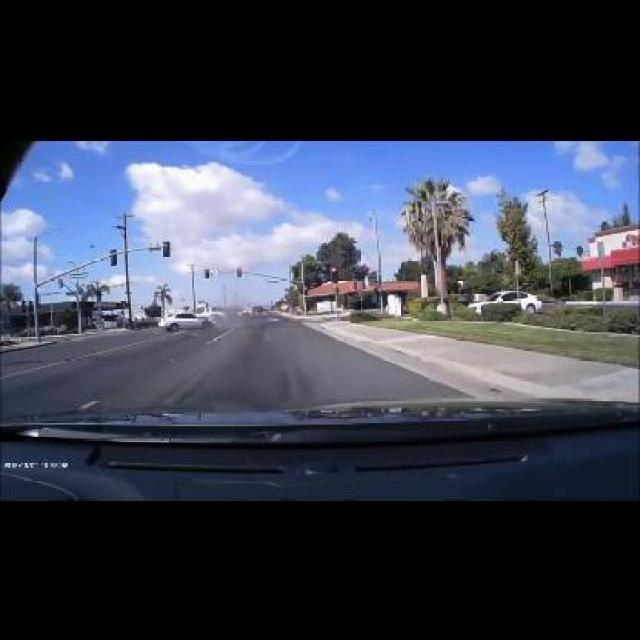accident: (157, 311, 249, 332)
